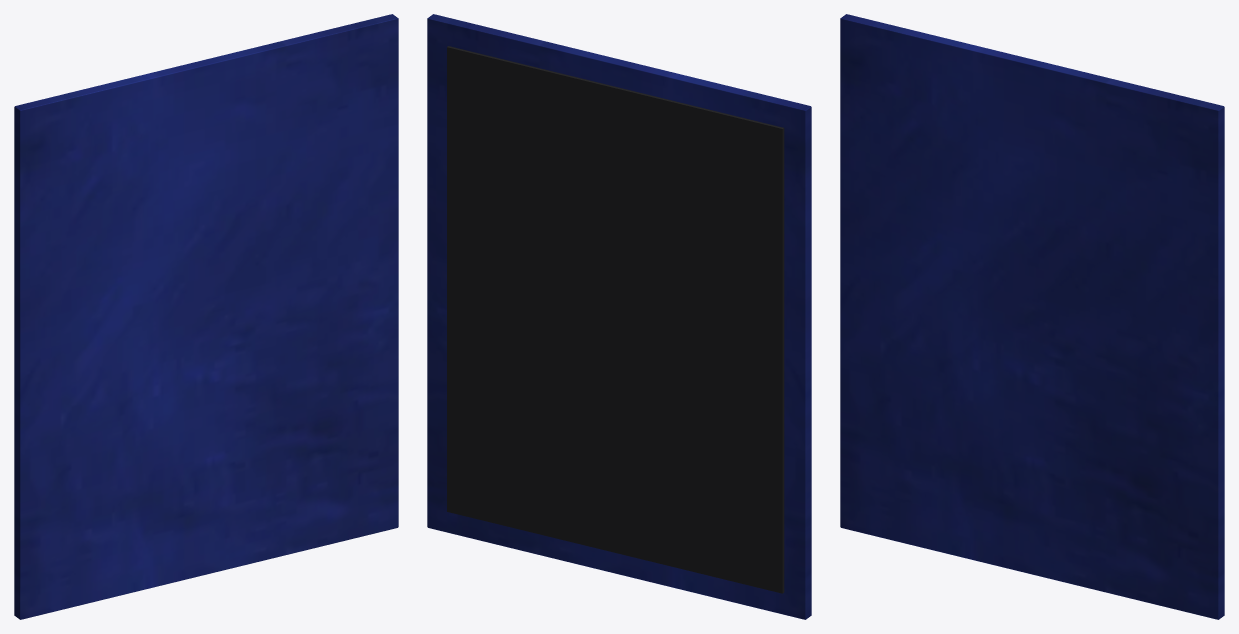
The model's file is art_mono_ultramarine.gltf.
The picture shows the model from 3 angles, left to right: view 1: azimuth 30°, elevation 25°; view 2: azimuth 150°, elevation 25°; view 3: azimuth 330°, elevation 25°; orthographic projection.
Parts seen in each view (by area): view 1: Art_MonoUltramarine_Art; view 2: Art_MonoUltramarine_Spacer, Art_MonoUltramarine_Art; view 3: Art_MonoUltramarine_Art.
Part boxes in pixels (left/top/right/bottom): Art_MonoUltramarine_Art: left=14, top=14, right=398, bottom=619; Art_MonoUltramarine_Spacer: left=447, top=46, right=784, bottom=593; Art_MonoUltramarine_Art: left=427, top=14, right=811, bottom=619; Art_MonoUltramarine_Art: left=840, top=14, right=1224, bottom=619.
Size of the model in its own units: 1.4 by 1.8 by 0.05.
Materials: 2 (1 with a texture image).
